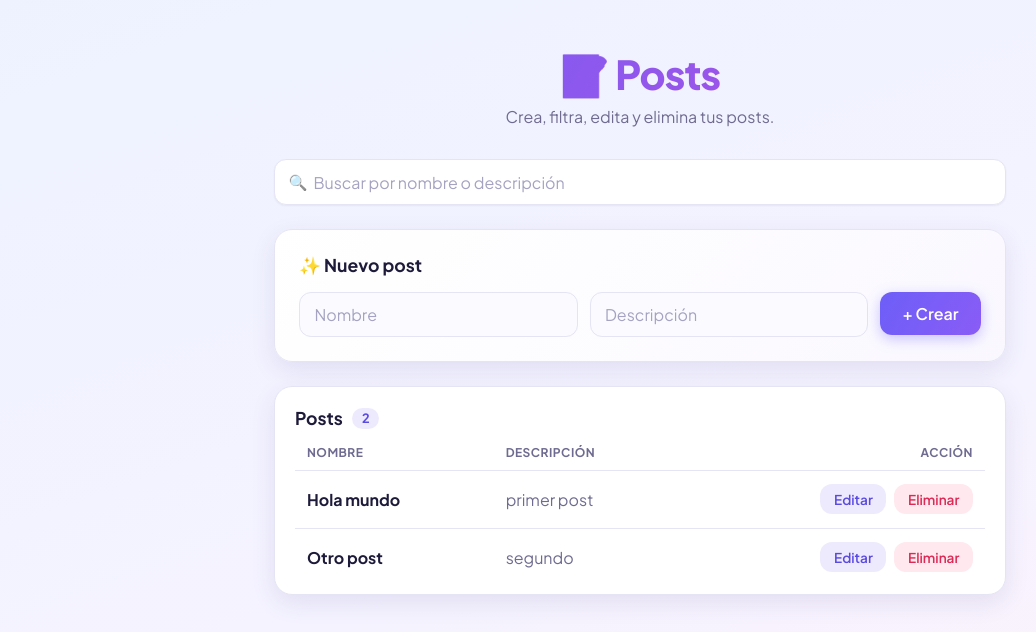
Scenario: App › filters the rendered list by description too
Check: the text "Hola mundo" is shown, box [295,470,494,529]
Type "segundo" into the field labelled "Buscar por nombre o descripción".
click(640, 182); type("segundo")  # box [274,159,1006,205]
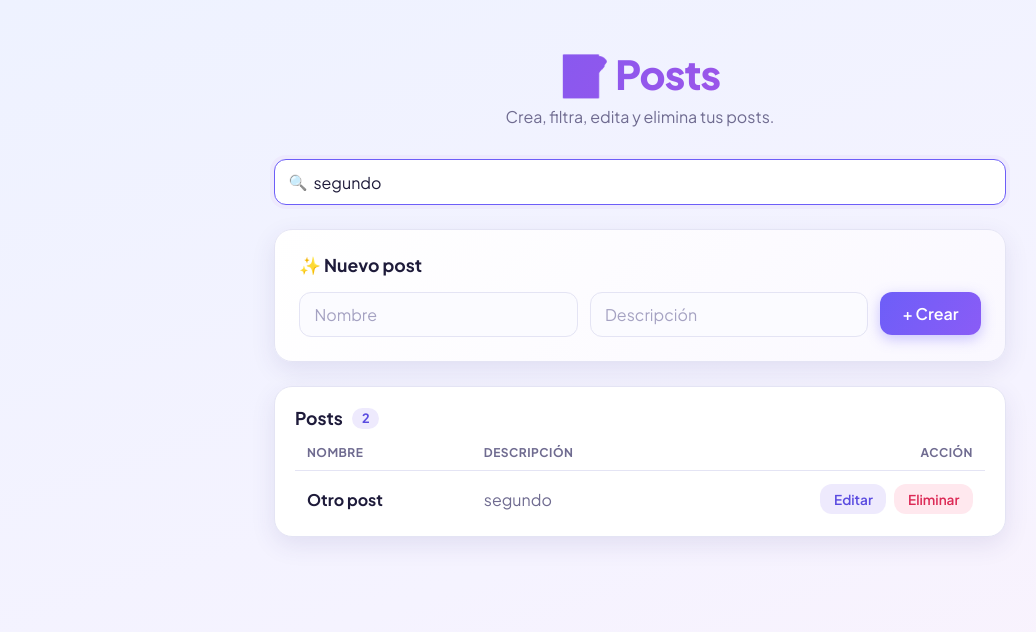
Check: the text "Otro post" is shown, box [295,470,472,528]
Check: the text "Hola mundo" is gone
